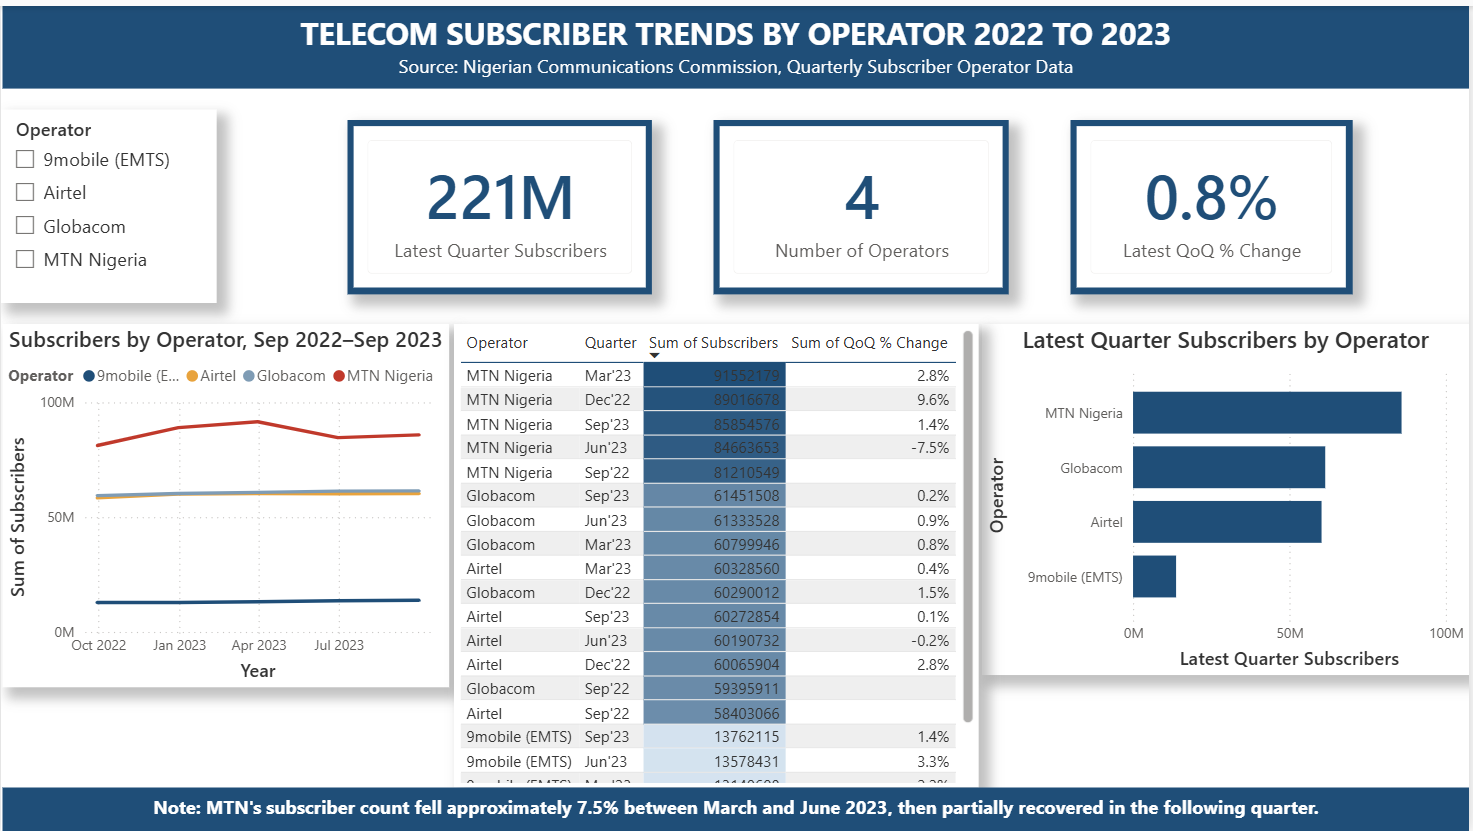

This screenshot's page, from the dashboard's own definition file:
{"tool":"powerbi","page":{"name":"Page 1","canvas":[1280,720],"ordinal":0},"visuals":[{"type":"slicer","fields":{"Values":["MasterSubscriberData.Operator"]},"box":[0,90.2,188.3,168.7],"z":0},{"type":"lineChart","title":"Subscribers by Operator, Sep 2022–Sep 2023","fields":{"Series":["MasterSubscriberData.Operator"],"Category":["MasterSubscriberData.Quarter End Date.Variation.Date Hierarchy.Year","MasterSubscriberData.Quarter End Date.Variation.Date Hierarchy.Quarter","MasterSubscriberData.Quarter End Date.Variation.Date Hierarchy.Month","MasterSubscriberData.Quarter End Date.Variation.Date Hierarchy.Day"],"Y":["Sum(MasterSubscriberData.Subscribers)"]},"box":[1.3,277.2,389.6,316.4],"z":1000},{"type":"cardVisual","fields":{"Data":["MasterSubscriberData.Latest Quarter Subscribers"]},"box":[302,99.4,265.4,151.7],"z":2000},{"type":"cardVisual","fields":{"Data":["MasterSubscriberData.Number of Operators"]},"box":[621.1,99.4,257.6,151.7],"z":3000},{"type":"cardVisual","fields":{"Data":["MasterSubscriberData.Latest QoQ % Change"]},"box":[932.3,99.4,245.8,151.7],"z":4000},{"type":"clusteredBarChart","fields":{"Category":["MasterSubscriberData.Operator"],"Y":["MasterSubscriberData.Latest Quarter Subscribers"]},"box":[855.1,277.2,424.9,306],"z":5000},{"type":"tableEx","fields":{"Values":["MasterSubscriberData.Operator","MasterSubscriberData.Quarter","Sum(MasterSubscriberData.Subscribers)","Sum(MasterSubscriberData.QoQ % Change)"]},"box":[394.2,277.2,457.6,404],"z":6000},{"type":"textbox","box":[1.3,0,1278.8,71.9],"z":7000},{"type":"textbox","box":[1.3,681.2,1278.8,39.2],"z":8000}]}

Visuals, with their boxes in screenshot pixels (x1, y1, x2, y2), scaled from the page's 1280x720 canvas onto the 1473x831 screenshot:
slicer - MasterSubscriberData.Operator: [0,104,217,299]
"Subscribers by Operator, Sep 2022–Sep 2023" lineChart: [1,320,450,685]
cardVisual - MasterSubscriberData.Latest Quarter Subscribers: [348,115,653,290]
cardVisual - MasterSubscriberData.Number of Operators: [715,115,1011,290]
cardVisual - MasterSubscriberData.Latest QoQ % Change: [1073,115,1356,290]
clusteredBarChart - MasterSubscriberData.Operator x MasterSubscriberData.Latest Quarter Subscribers: [984,320,1472,673]
tableEx - MasterSubscriberData.Operator x MasterSubscriberData.Quarter: [454,320,980,786]
textbox: [1,0,1472,83]
textbox: [1,786,1472,830]
